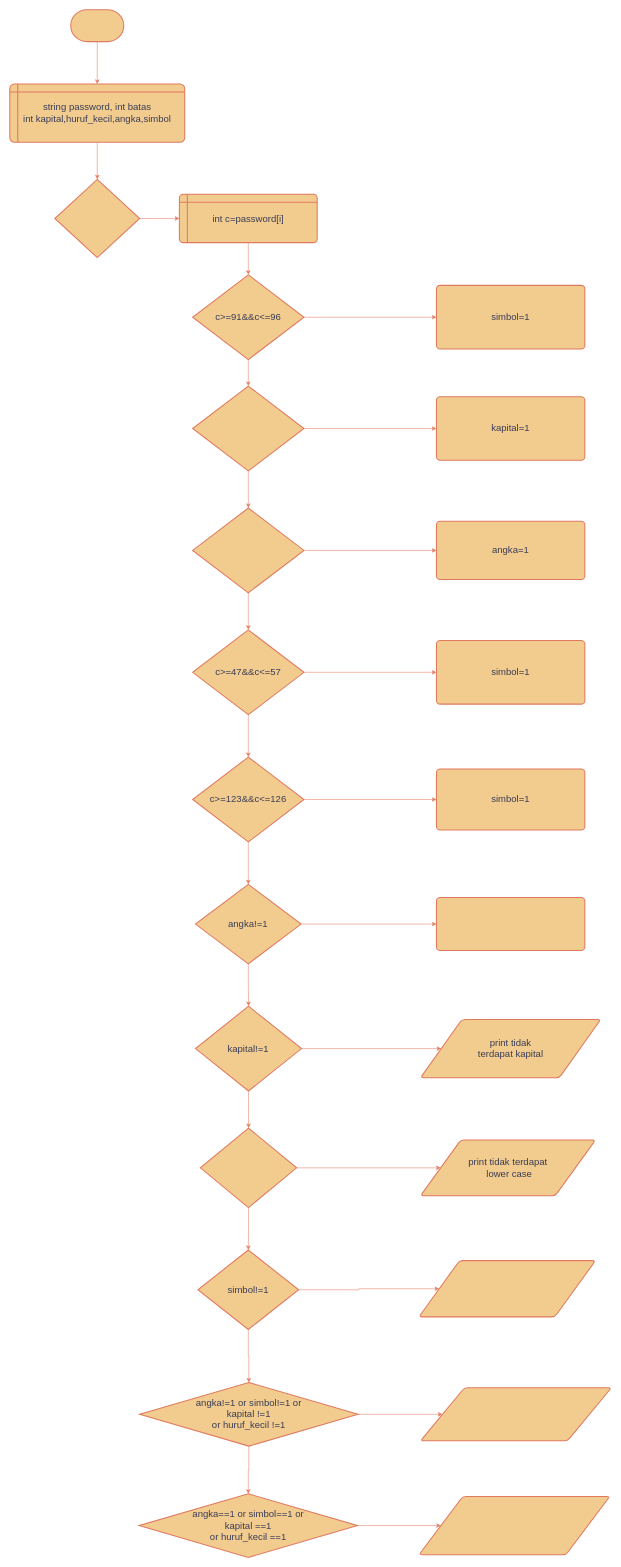
The diagram is 621 pixels wide and 1567 high, and some of its shapes have lost their labels. The centre of each missing label's shape, as x and y in pixels:
c>=65&&c<=90: point 248,428
c>=97&&c<=122: point 248,550
Harap Masukkan Kembali Password: point 516,1414
huruf_kecil!=1: point 248,1167
i<batas: point 97,218
Password SUKSES: point 514,1525
print tidak terdapat angka: point 510,924
start.: point 97,25
tidak terdapat simbol: point 507,1288
